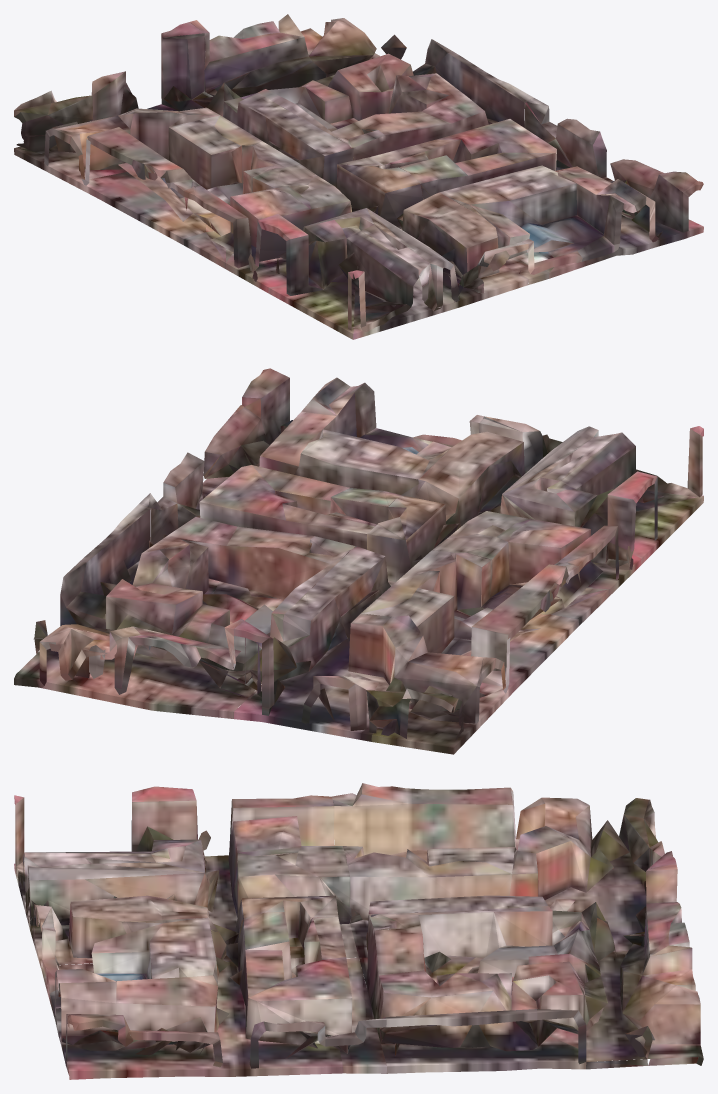
The picture shows the model from 3 angles, top to bottom: view 1: azimuth 30°, elevation 25°; view 2: azimuth 150°, elevation 25°; view 3: azimuth 270°, elevation 25°; orthographic projection. The views are drawn at different scales.
Parts seen in each view (by area): view 1: Mesh_0; view 2: Mesh_0; view 3: Mesh_0.
Part boxes in pixels (box(x1,y1,x2,y2)): Mesh_0: box(14, 14, 703, 339); Mesh_0: box(14, 368, 703, 754); Mesh_0: box(14, 783, 703, 1079).
Size of the model in its own units: 266 by 52.26 by 330.
Materials: 1 (1 with a texture image).
